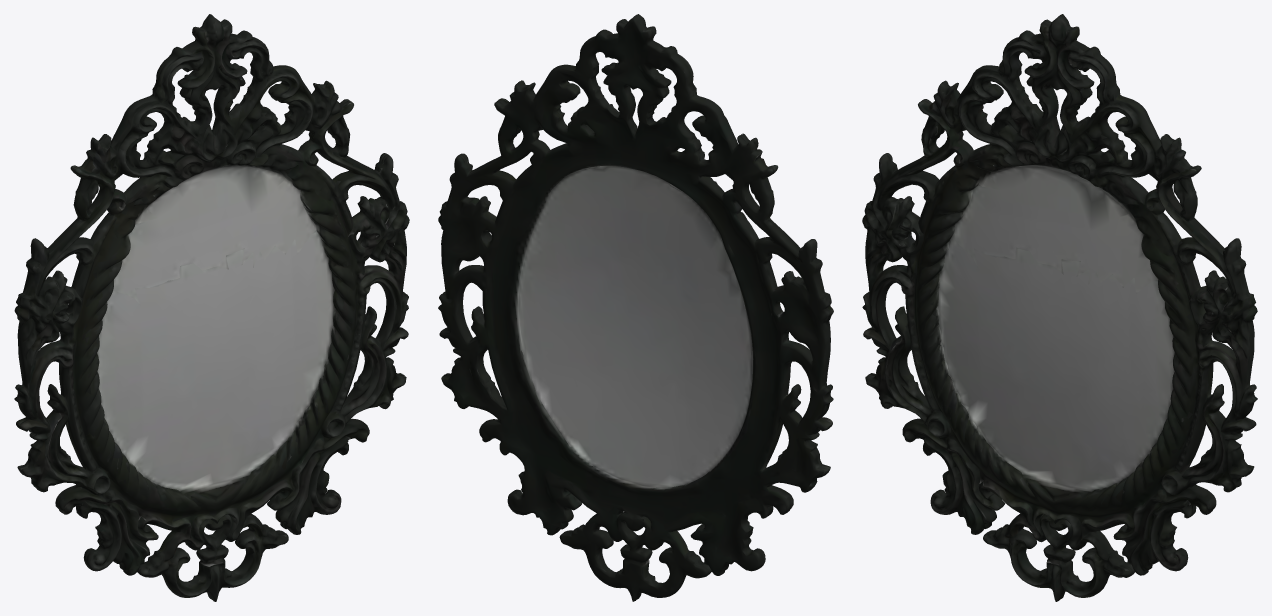
Rendered from mirror.glb.
3 renders of one model, left to right at view 1: azimuth 30°, elevation 25°; view 2: azimuth 150°, elevation 25°; view 3: azimuth 330°, elevation 25°, orthographic.
Parts seen in each view (by area): view 1: node_0; view 2: node_0; view 3: node_0.
Part boxes in pixels (x1=…): node_0: x1=14, y1=14, x2=409, y2=601; node_0: x1=438, y1=14, x2=833, y2=601; node_0: x1=862, y1=14, x2=1257, y2=601.
Size of the model in its own units: 0.8404 by 1.2 by 0.0439.
1 material, 1 textured.
